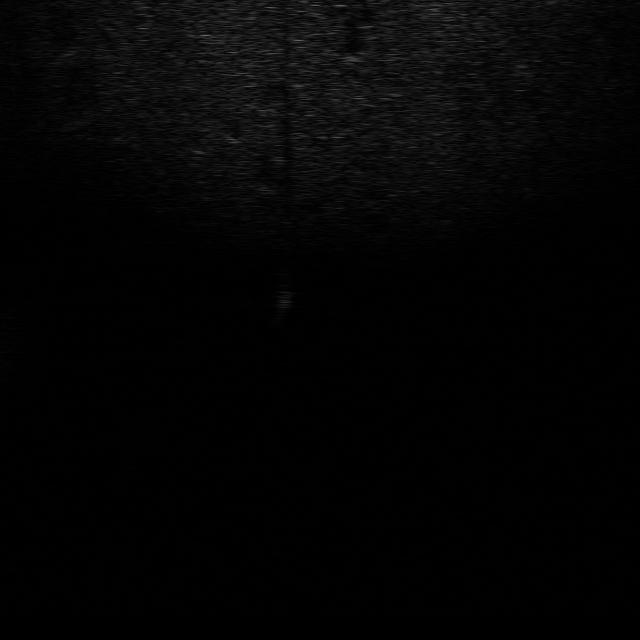human body: (254, 280, 296, 329)
